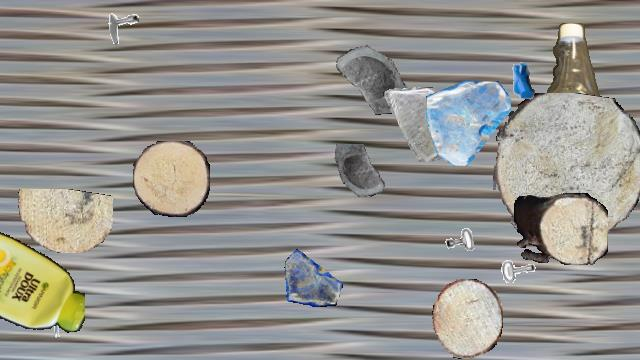glass: (426, 81, 510, 165), (326, 32, 408, 114), (382, 87, 456, 161), (331, 144, 393, 206), (284, 248, 342, 306)
metal: (431, 195, 491, 255), (494, 51, 550, 107), (498, 255, 544, 301), (39, 301, 83, 345), (97, 2, 139, 44)
plastic: (526, 23, 608, 221), (0, 221, 85, 337)
wood: (493, 93, 640, 245), (514, 193, 608, 265), (15, 189, 113, 253), (133, 141, 209, 217), (432, 279, 502, 359)
